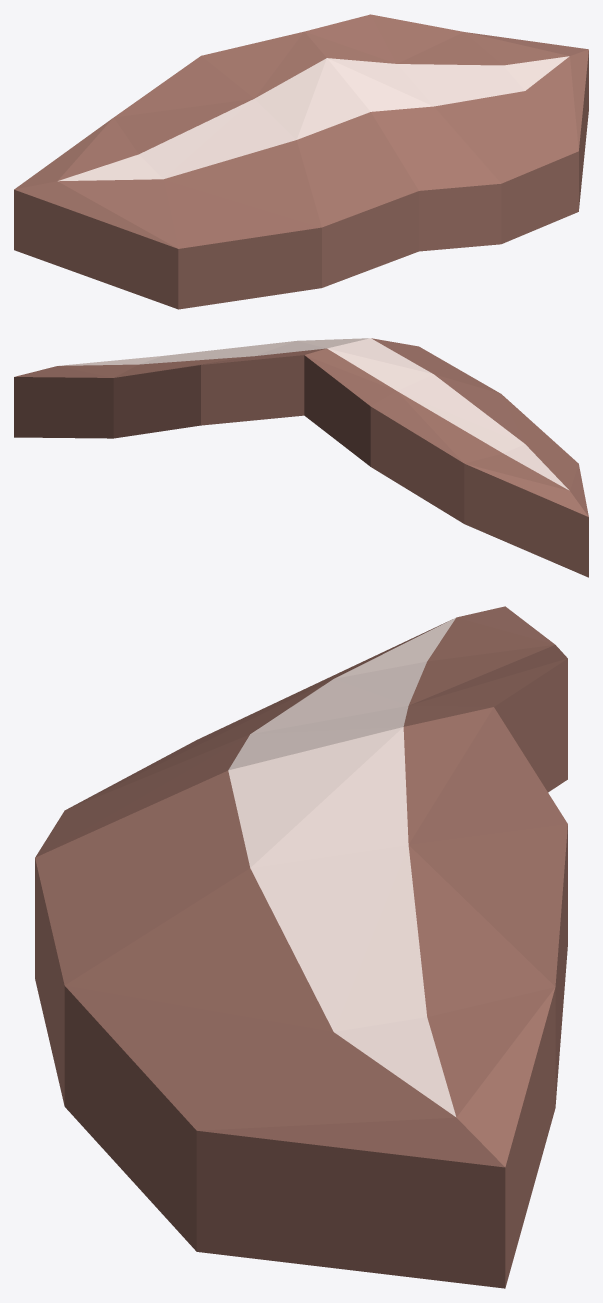
Rendered from Mouth 05.FBX.
3 views of the same model, one above another, from view 1: azimuth 30°, elevation 25°; view 2: azimuth 150°, elevation 25°; view 3: azimuth 270°, elevation 25° (orthographic). The views are drawn at different scales.
Parts seen in each view (by area): view 1: Mouth 05; view 2: Mouth 05; view 3: Mouth 05.
Part boxes in pixels (x1,y1,x2,y2): Mouth 05: [14, 14, 588, 309]; Mouth 05: [14, 338, 588, 577]; Mouth 05: [35, 606, 567, 1288].
Bounding box in the file's own units: 8.17 × 2.37 × 3.28.
Materials: 1 (1 with a texture image).
